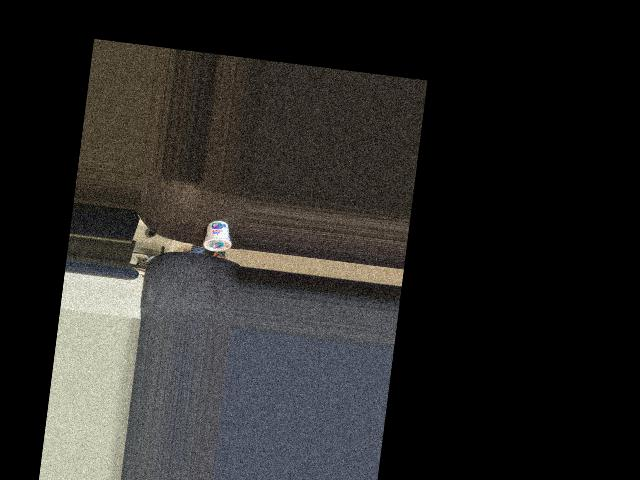cotage: (200, 217, 234, 253)
